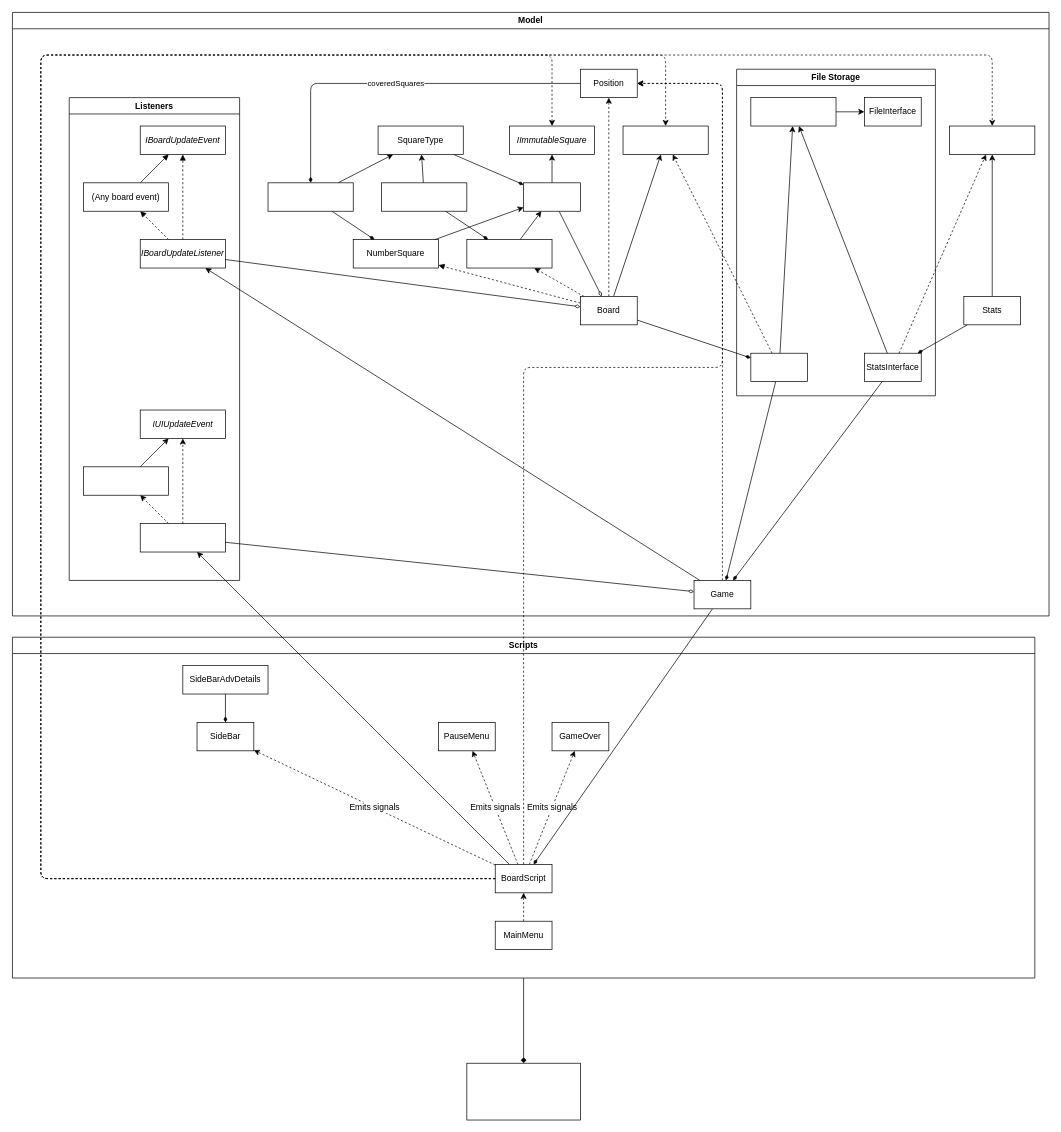
This 1061x1132 diagram has some shape labels left out. Here are the shapes that lost their labels. From the top down, the centre of each, then its label:
At pixel 793 111: "FileInterface<T>".
At pixel 665 139: "IImmutableBoard".
At pixel 992 139: "IImmutableStats".
At pixel 310 196: "NumberSquareType".
At pixel 424 196: "SpecialSquareType".
At pixel 551 196: "Square".
At pixel 509 253: "SpecialSquare".
At pixel 779 367: "BoardInterface".
At pixel 126 480: "(Any UI event)".
At pixel 182 537: "IUIEventReceiver".
At pixel 523 1091: "GODOT".
